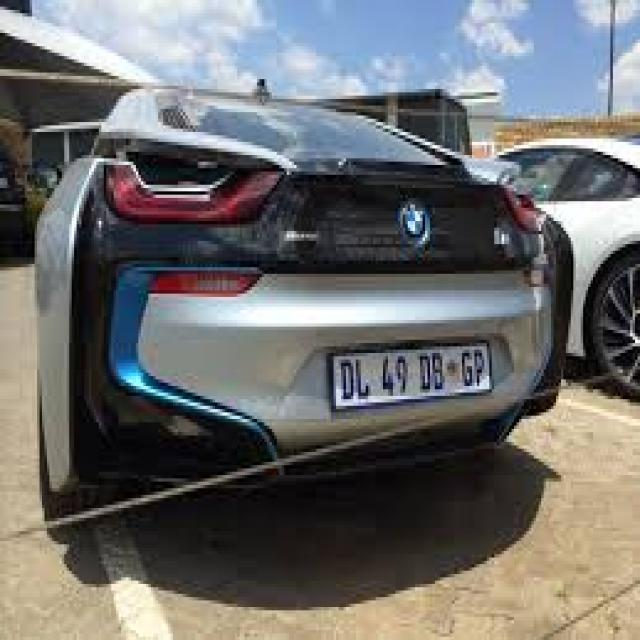Number-Plate: (333, 342, 489, 405)
